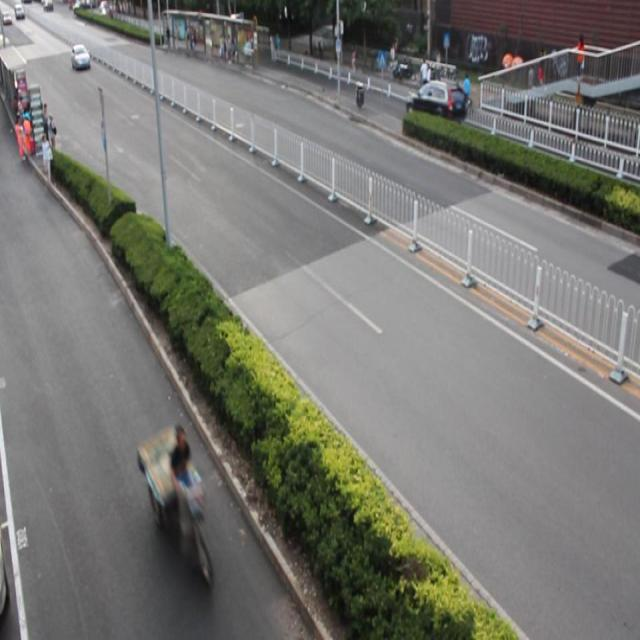car: (404, 80, 464, 127)
